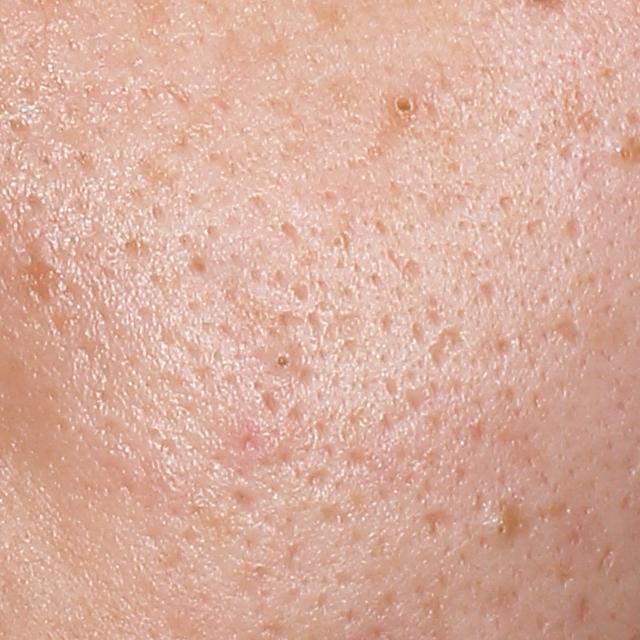atrophic_scar: (425, 323, 473, 375), (24, 235, 55, 312), (551, 316, 595, 347), (562, 209, 591, 250), (419, 509, 454, 542), (574, 590, 592, 626), (598, 544, 614, 577)
comedo: (265, 342, 298, 379), (379, 89, 416, 119), (490, 517, 514, 540)
